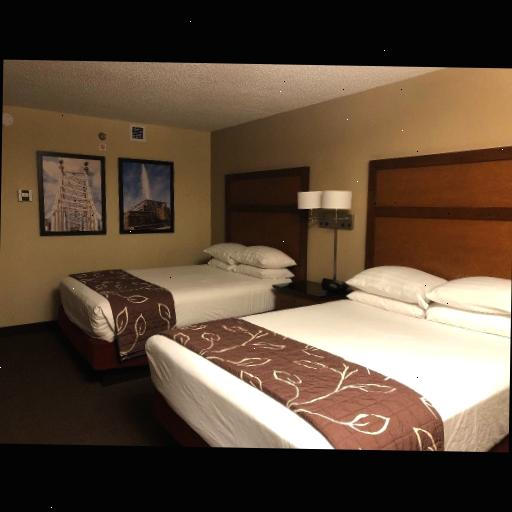clean_bed: (146, 146, 512, 452), (54, 168, 311, 379)
lamp: (297, 182, 353, 293)
organised_pillow: (342, 262, 512, 336), (204, 238, 296, 276)
